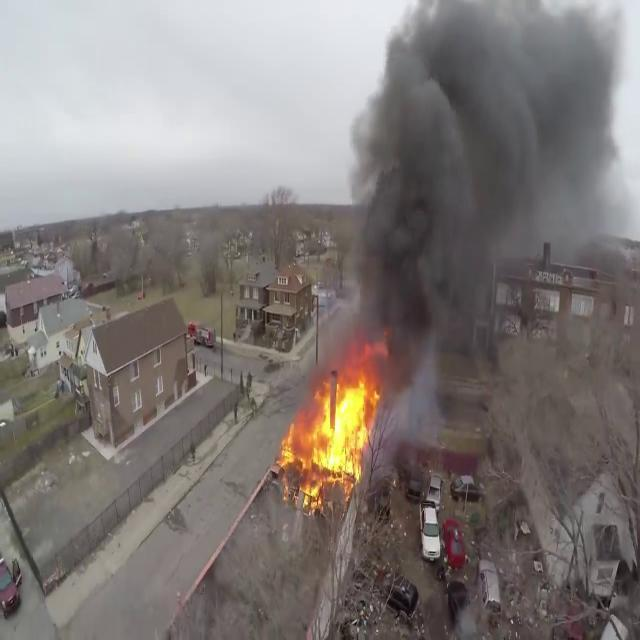Fire: (277, 361, 384, 498)
Smoke: (320, 0, 638, 379)
